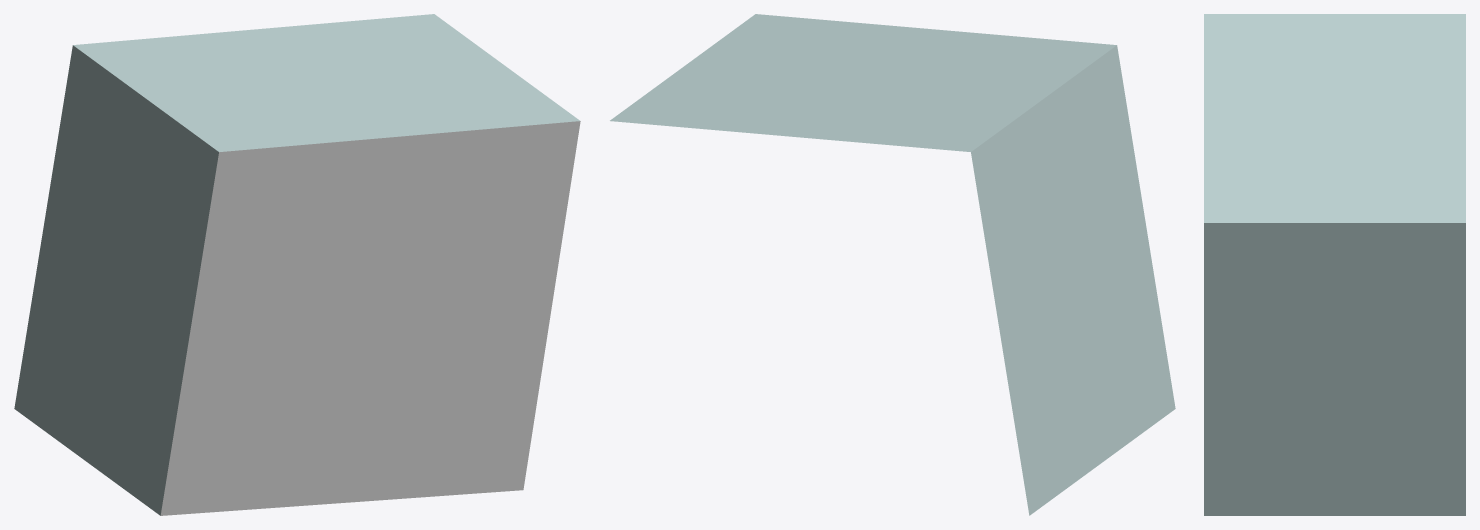
3 views of the same model, side by side, from view 1: azimuth 30°, elevation 25°; view 2: azimuth 150°, elevation 25°; view 3: azimuth 270°, elevation 25° (orthographic). The views are drawn at different scales.
Visible parts, largest first — view 1: 0_1_2_3_2_1_1_3_2; view 2: 0_1_2_3_2_1_1_3_2; view 3: 0_1_2_3_2_1_1_3_2.
Part boxes in pixels (left/top/right/bottom): 0_1_2_3_2_1_1_3_2: left=14, top=14, right=580, bottom=515; 0_1_2_3_2_1_1_3_2: left=610, top=14, right=1175, bottom=515; 0_1_2_3_2_1_1_3_2: left=1204, top=14, right=1465, bottom=515.
Size of the model in its own units: 4.97 by 4.67 by 3.
